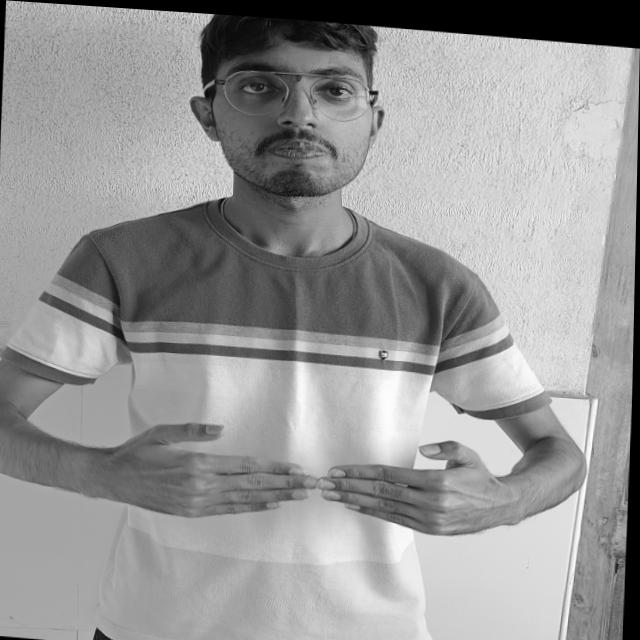Night: (100, 397, 518, 578)
